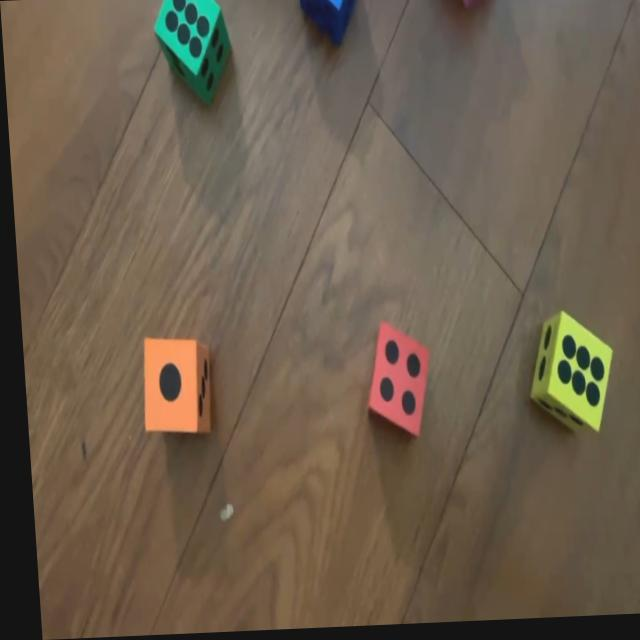cube: (153, 0, 233, 106), (358, 322, 429, 441), (298, 0, 361, 47)
